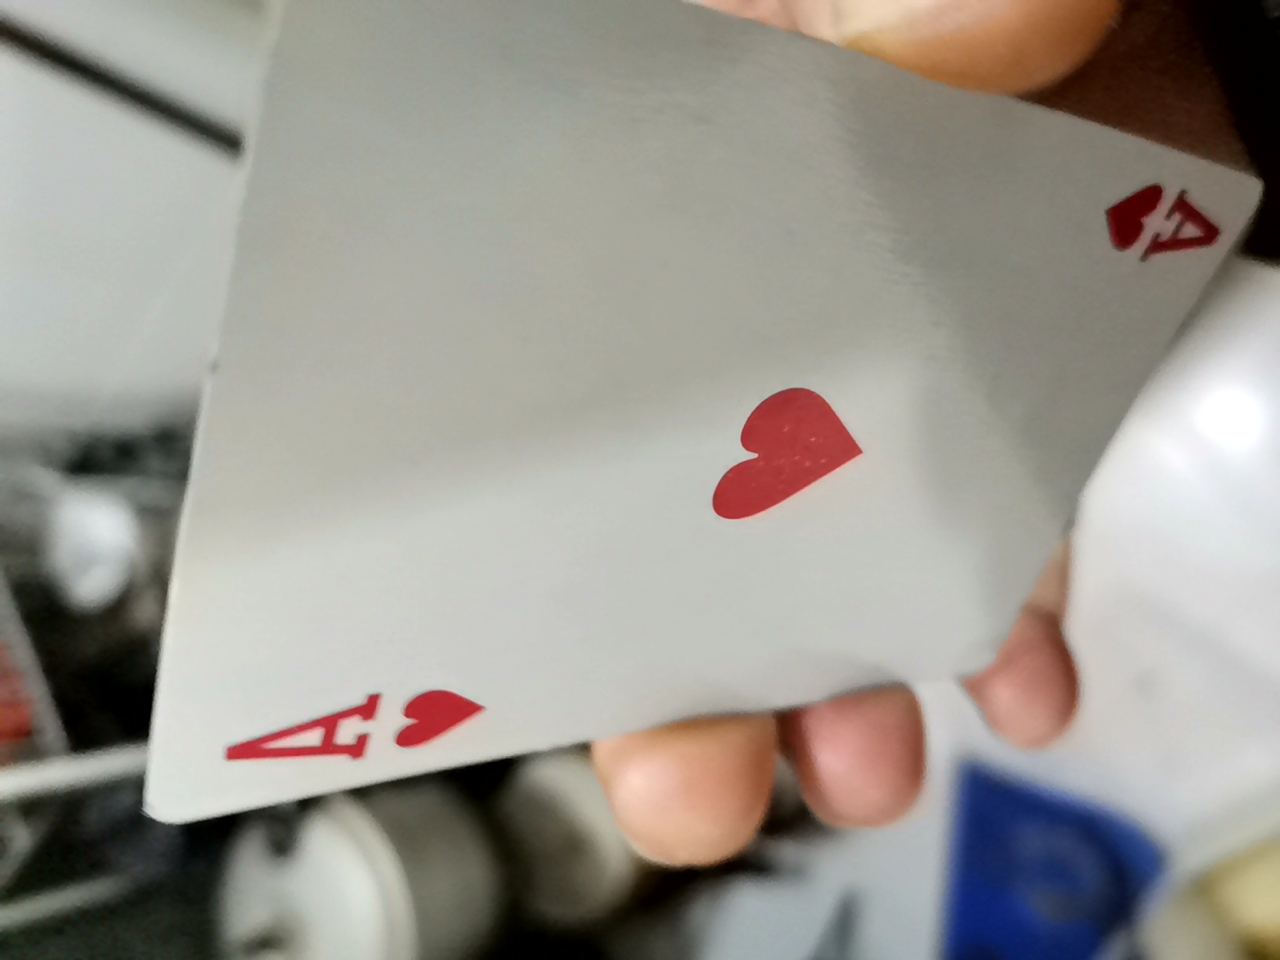hx a: (80, 31, 1230, 875)
